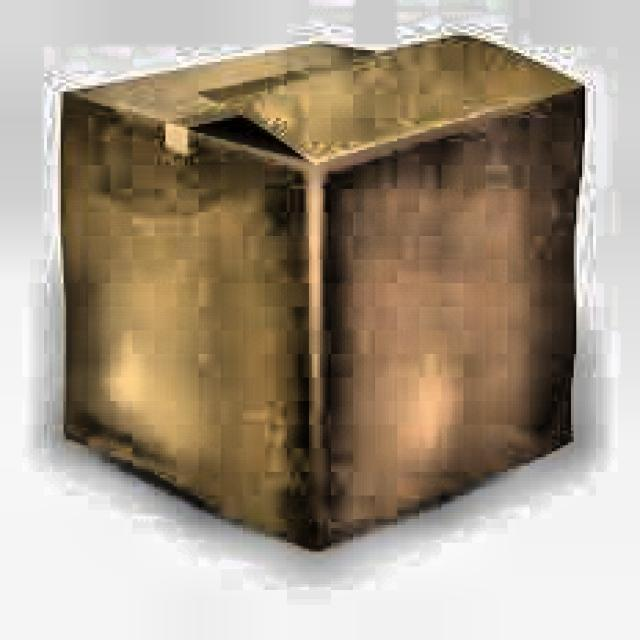cardboard: (58, 29, 585, 548)
